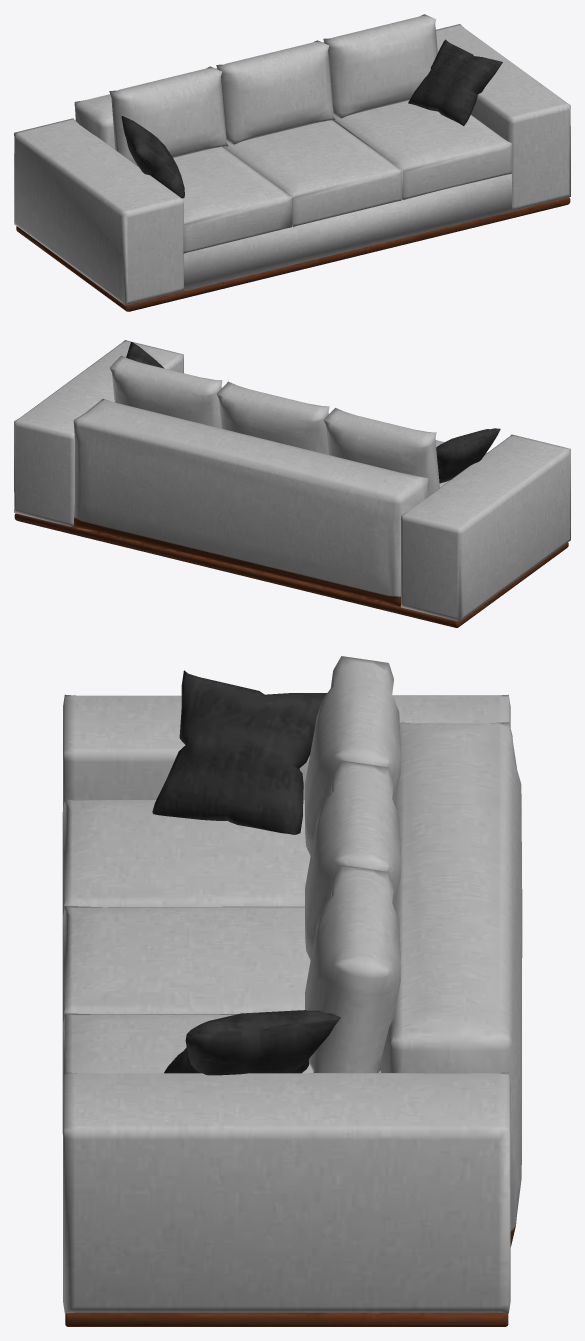
Rendered from sofa_001.glb.
3 renders of one model, top to bottom at view 1: azimuth 30°, elevation 25°; view 2: azimuth 150°, elevation 25°; view 3: azimuth 270°, elevation 25°, orthographic. The views are drawn at different scales.
Visible parts, largest first — view 1: Sofa_001; view 2: Sofa_001; view 3: Sofa_001.
Boxes of the visible parts, box(x1,y1,x2,y2) form: Sofa_001: box(14, 14, 570, 311); Sofa_001: box(14, 340, 570, 627); Sofa_001: box(62, 656, 522, 1326).
Size of the model in its own units: 3.03 by 0.9745 by 1.34.
1 material, 1 textured.
